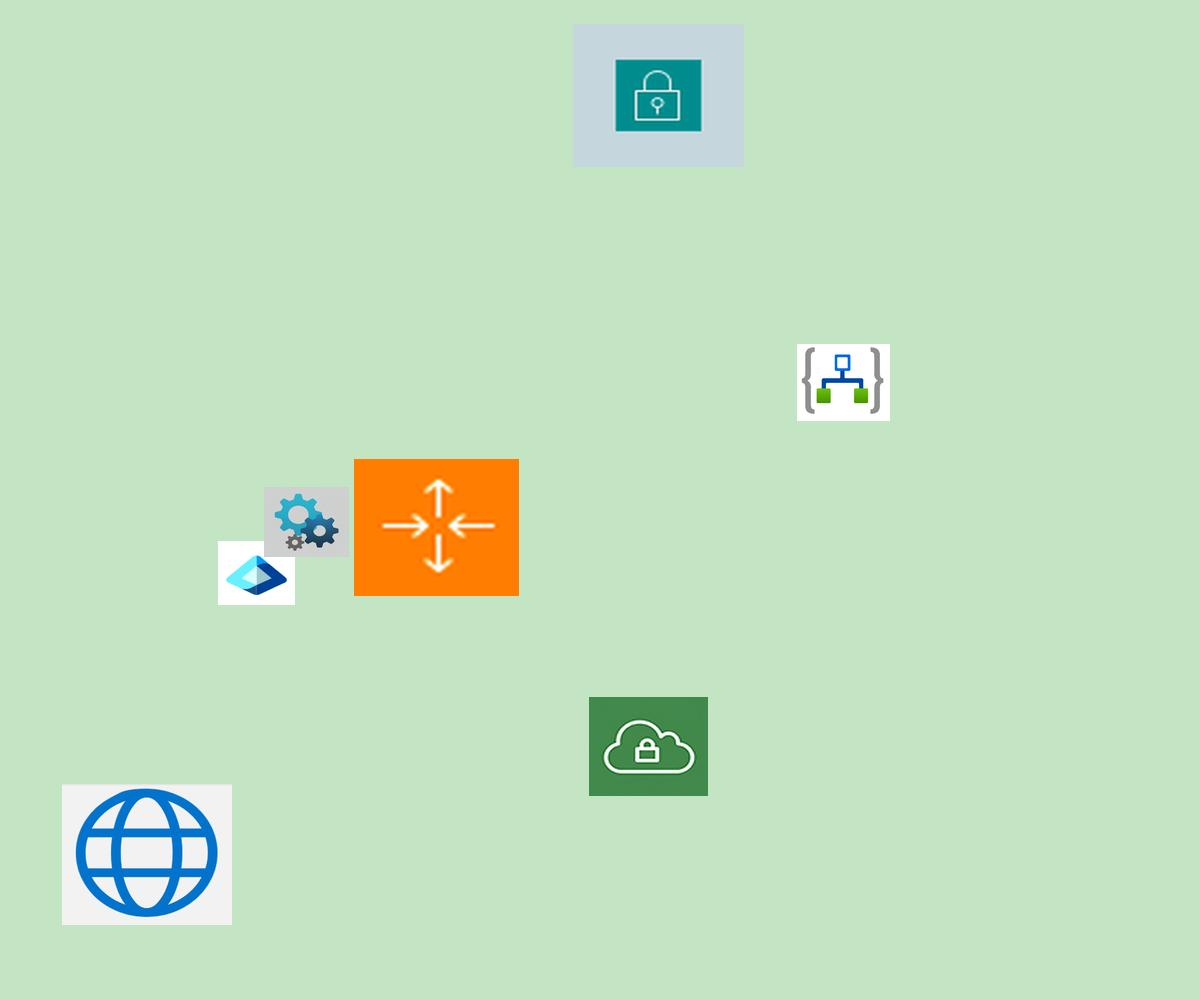AWS-Private-subnet: (573, 24, 744, 167)
AWS-Private_vpc: (589, 697, 708, 796)
AWS-Scaling-group: (354, 459, 519, 596)
Azure_api: (264, 487, 349, 557)
Azure_http: (62, 784, 232, 925)
Azure_integration-204-Logic-Apps: (797, 344, 890, 421)
Azure_microsoft_entra: (218, 541, 295, 605)
